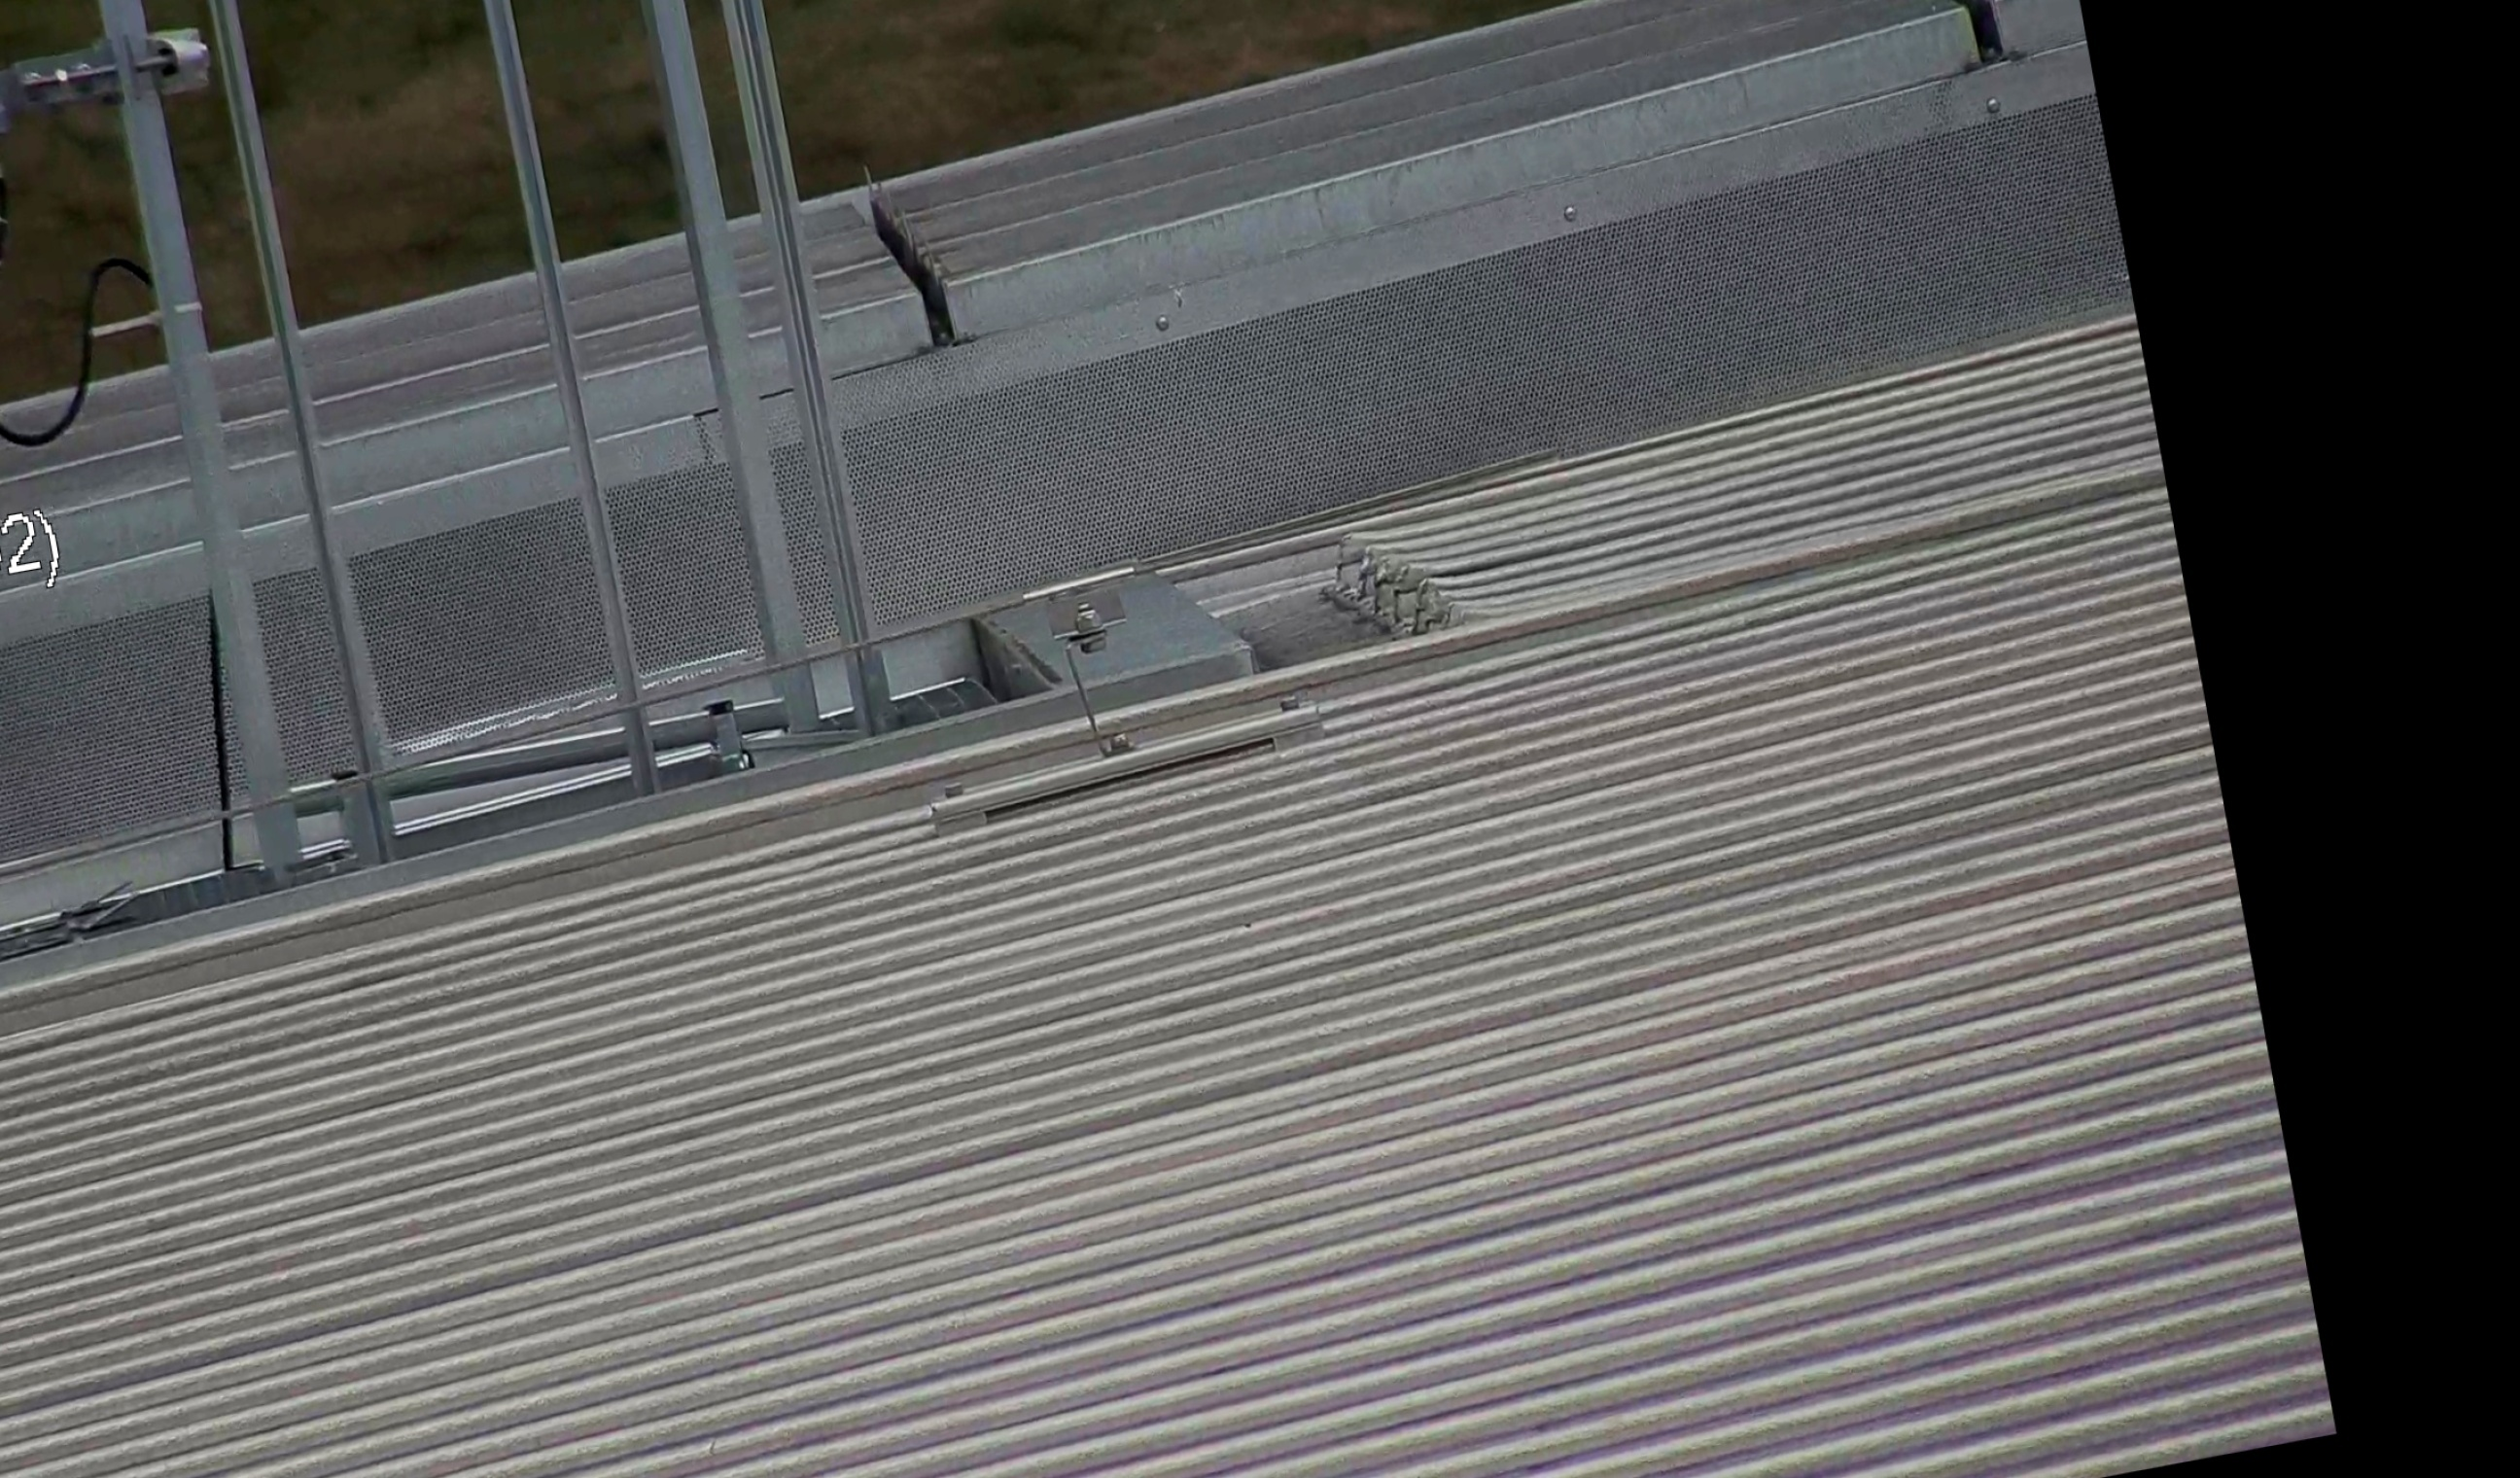Other: (844, 144, 981, 362)
